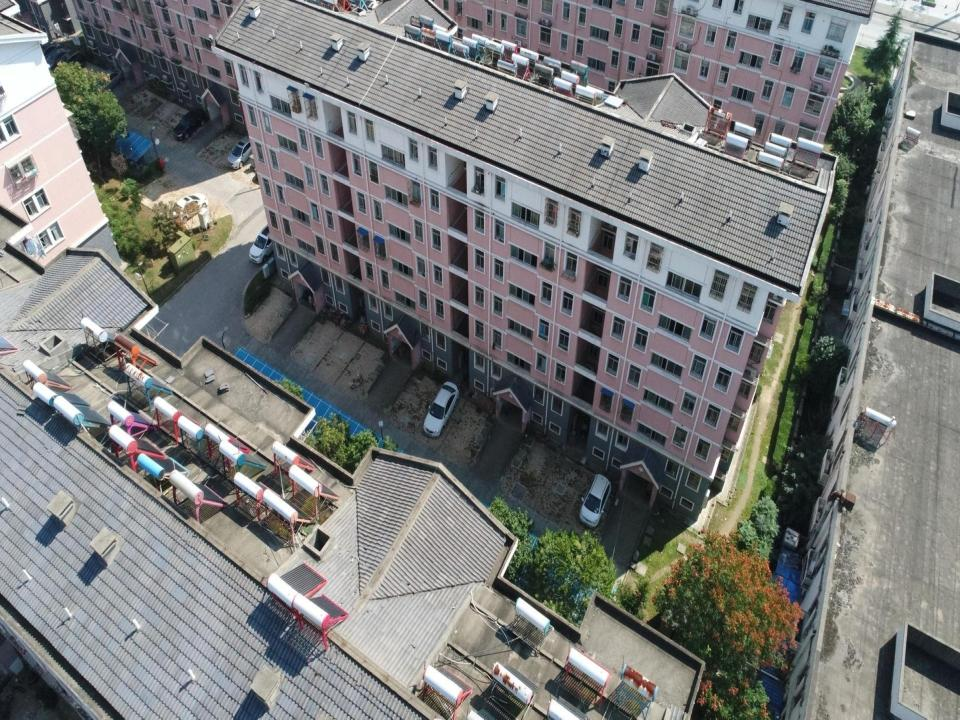car: (422, 380, 460, 438), (578, 472, 612, 530), (248, 221, 280, 264), (170, 192, 209, 224), (172, 107, 206, 141), (228, 134, 257, 170), (94, 68, 122, 94), (42, 46, 67, 70), (56, 50, 85, 69), (36, 41, 60, 59)
